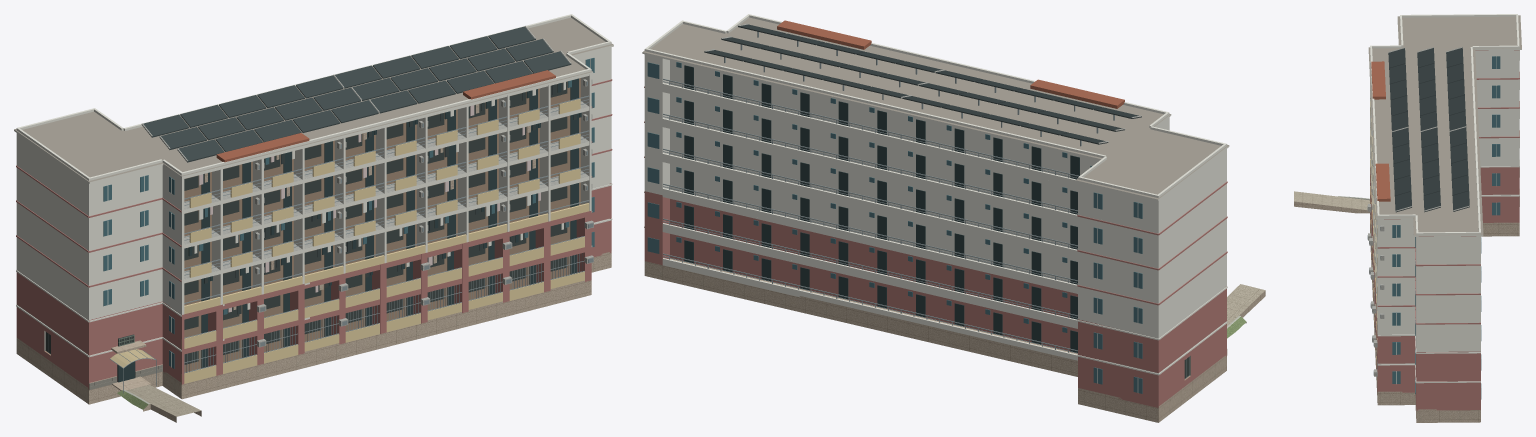
The model's file is chunk-dorm-way-759158610.glb.
The picture shows the model from 3 angles, left to right: view 1: azimuth 30°, elevation 25°; view 2: azimuth 150°, elevation 25°; view 3: azimuth 270°, elevation 25°; orthographic projection. The views are drawn at different scales.
Parts seen in each view (by area): view 1: chunk-dorm-way-759158610; view 2: chunk-dorm-way-759158610; view 3: chunk-dorm-way-759158610.
Boxes of the visible parts, x1,y1,x2,y2 form: chunk-dorm-way-759158610: [14, 14, 613, 422]; chunk-dorm-way-759158610: [642, 14, 1265, 422]; chunk-dorm-way-759158610: [1294, 14, 1521, 422].
Size of the model in its own units: 53.23 by 21.99 by 23.31.
Materials: 21 (4 with a texture image).
